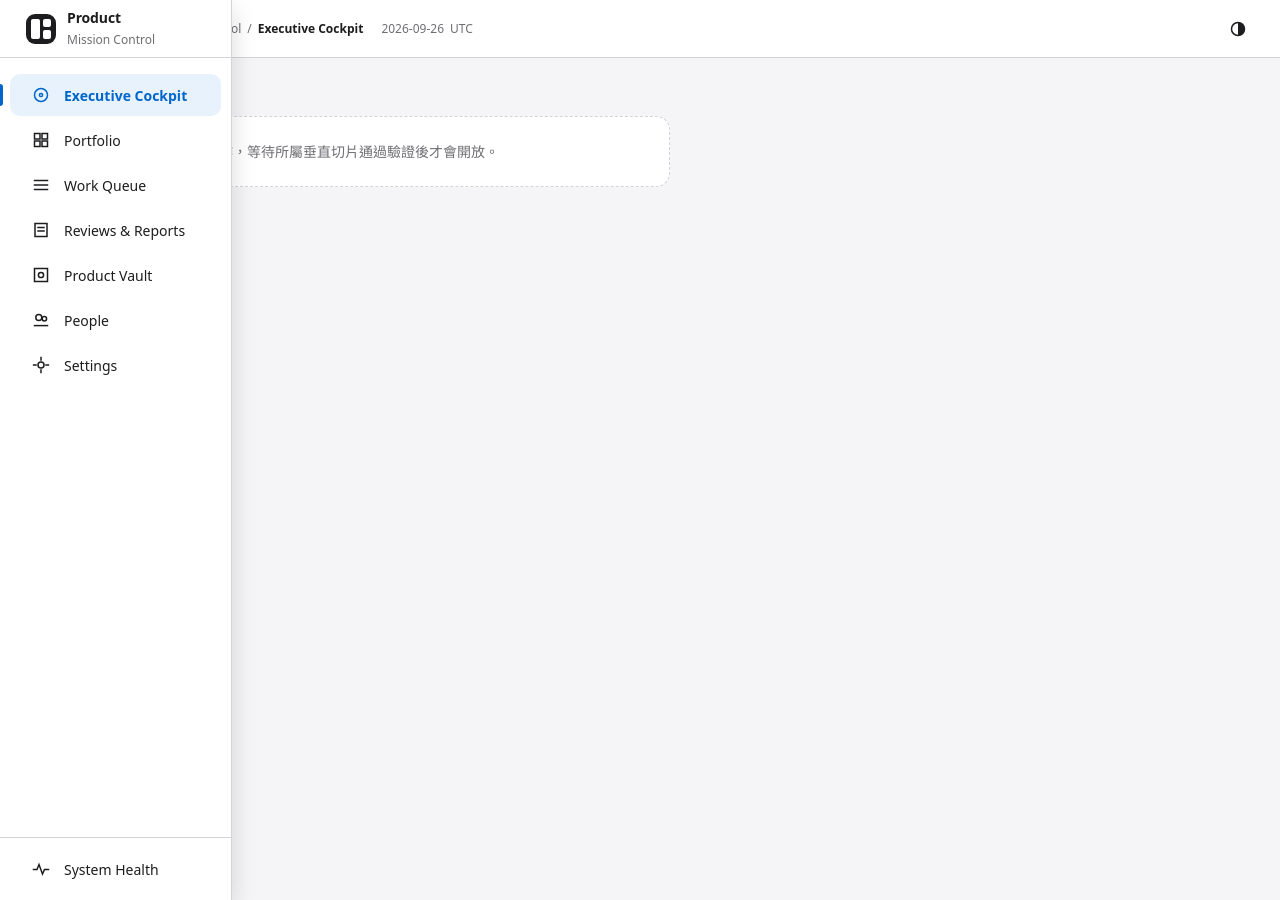
it: AppShell › switches the active route, heading, and document title on navigation
Click the button "Portfolio" at (116, 140), box [10,119,221,161]
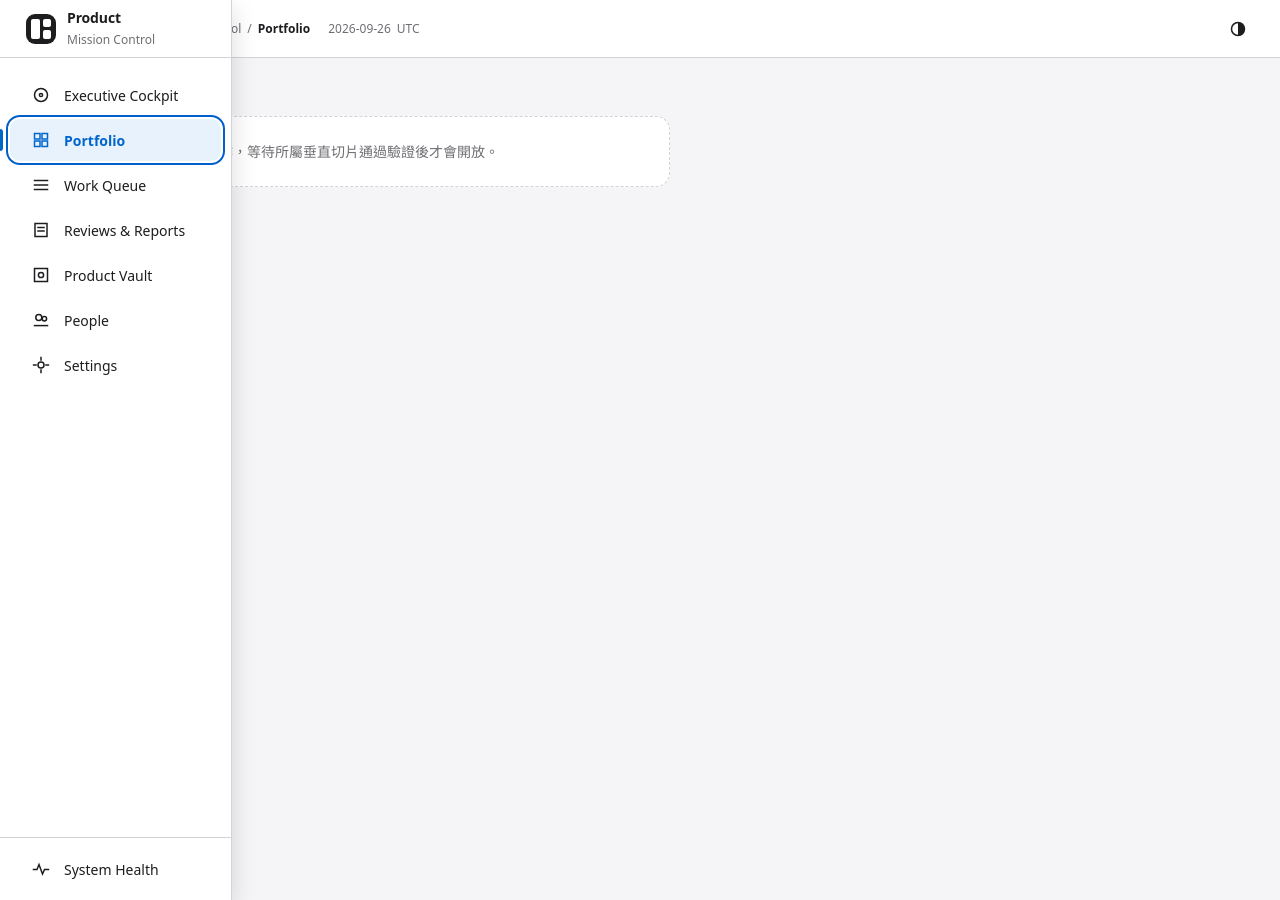
Now the heading "Portfolio" is shown, box [258,18,310,39]
